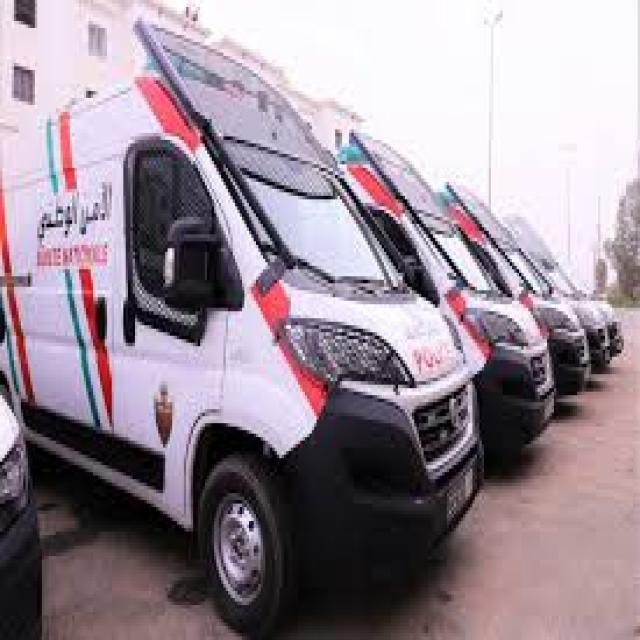Police car: (0, 14, 491, 640)
